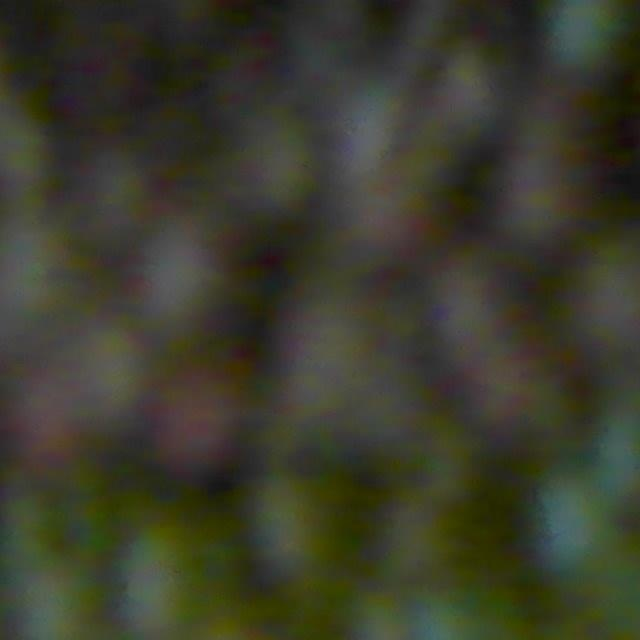SeaGrape: (537, 474, 637, 586), (242, 472, 343, 580), (158, 392, 258, 492), (39, 406, 139, 506), (0, 366, 99, 466), (426, 246, 516, 356), (134, 541, 226, 640), (0, 563, 91, 640), (541, 0, 629, 69)
